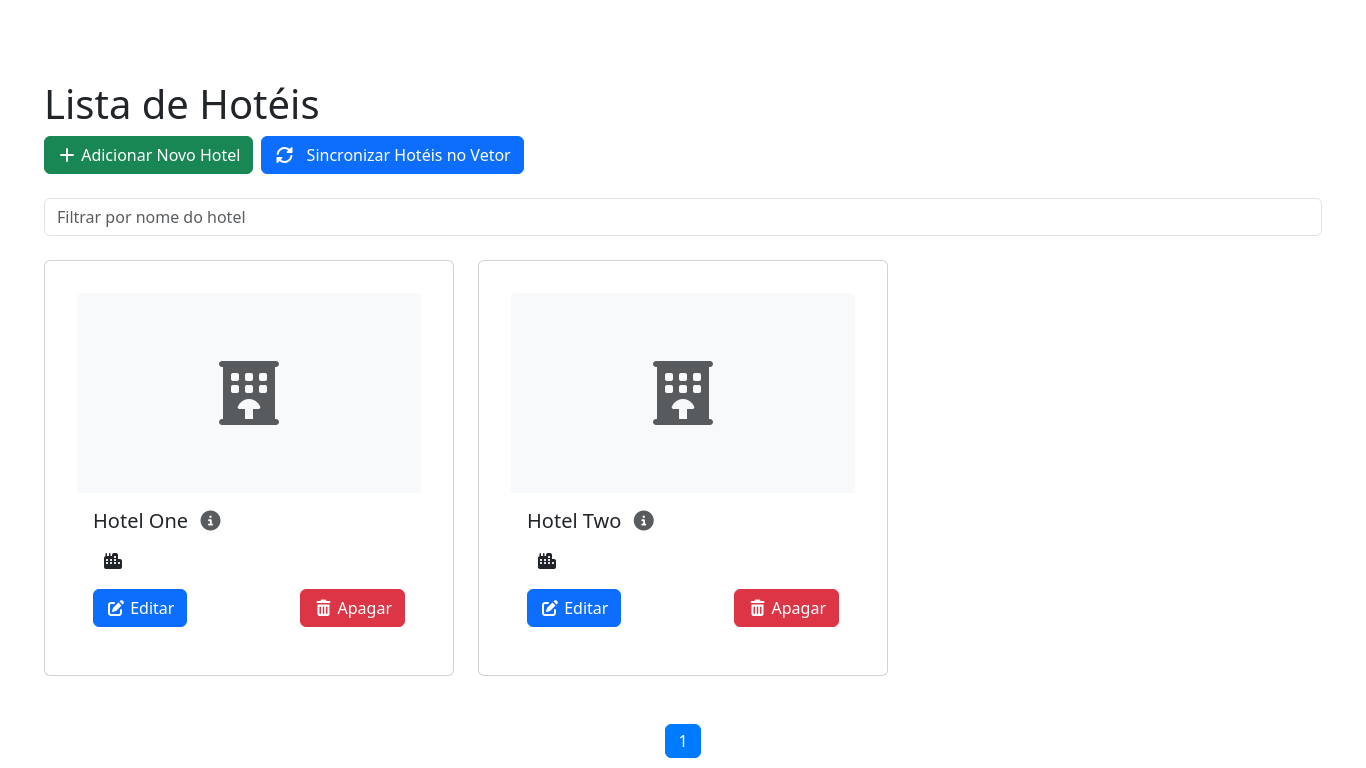
Test: HotelList component › handles error while deleting a hotel
The width and height of the screenshot is (1366, 768).
Expected: the heading "Hotel One" is shown, [93,507,223,534]
Expected: the heading "Hotel Two" is shown, [527,507,656,534]
What coordinates should you click on to do the following:
click the button "Apagar" below "Hotel One"
I would click on:
 (353, 608)
Its box is [300,589,405,627].
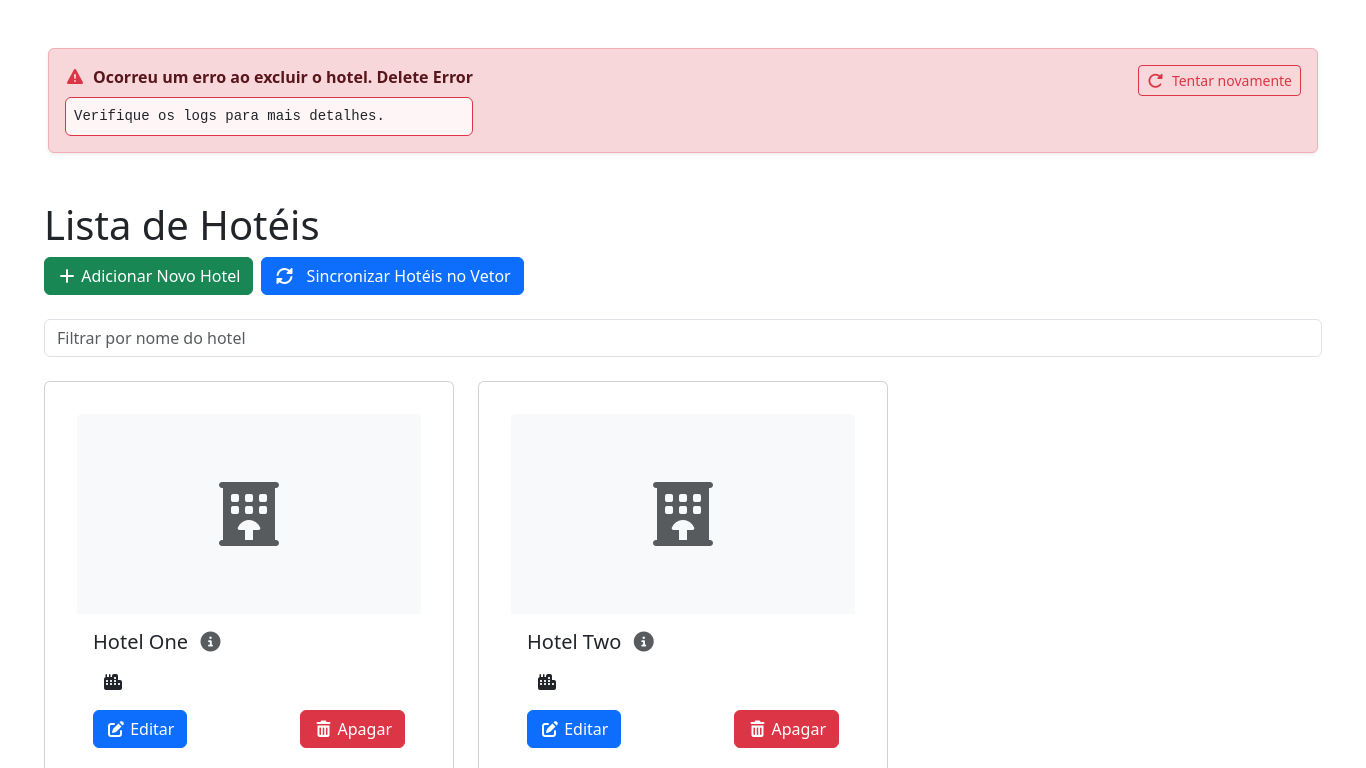
Now the message shows "Ocorreu um erro ao excluir o hotel.", box [93,66,473,88]
